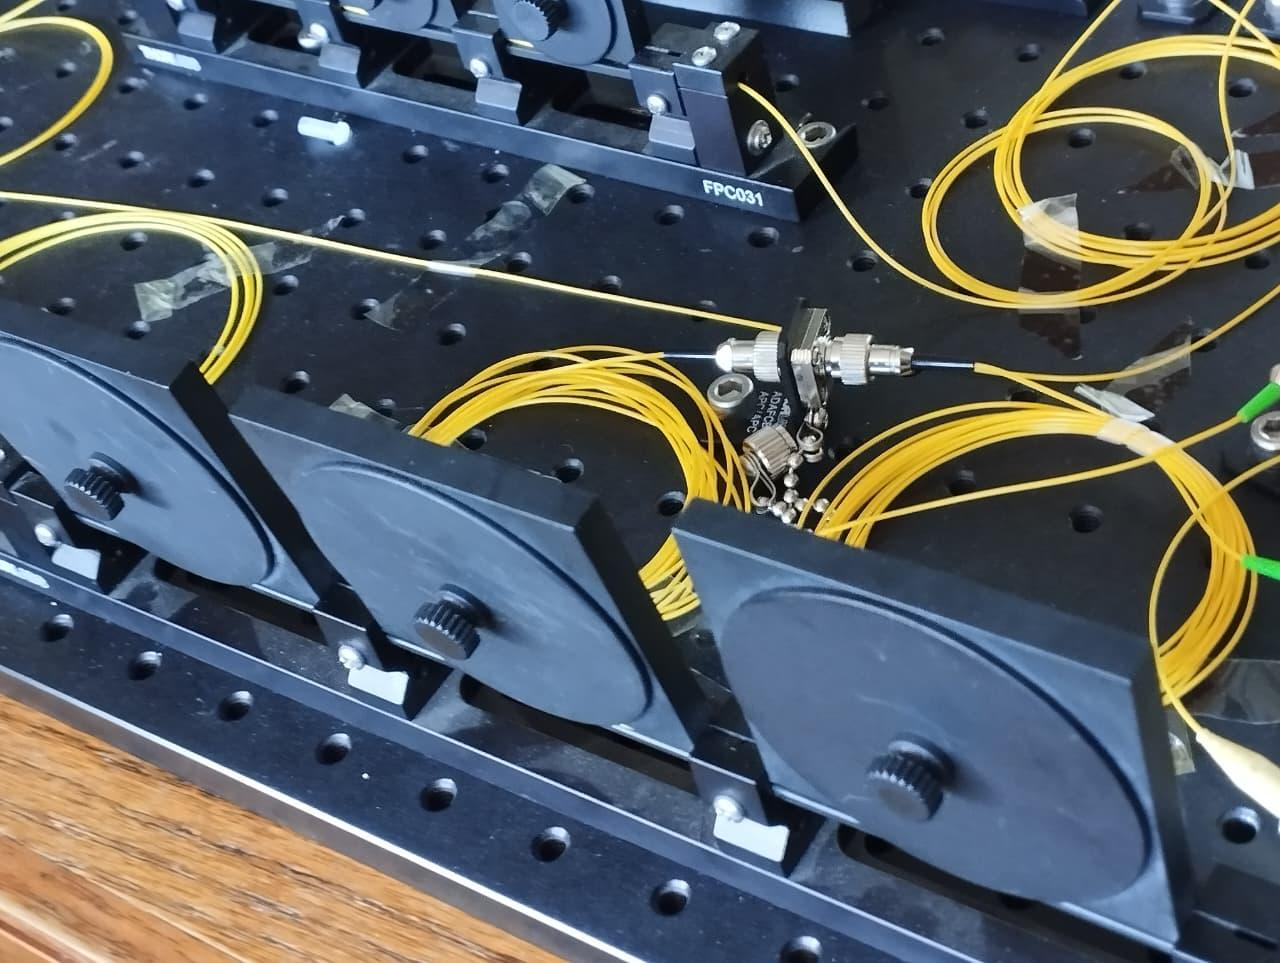fiber_cable: (825, 341, 1258, 724), (419, 290, 785, 661), (850, 9, 1280, 324)
paddle_polarization_controller: (0, 288, 1279, 962), (119, 0, 885, 250)
